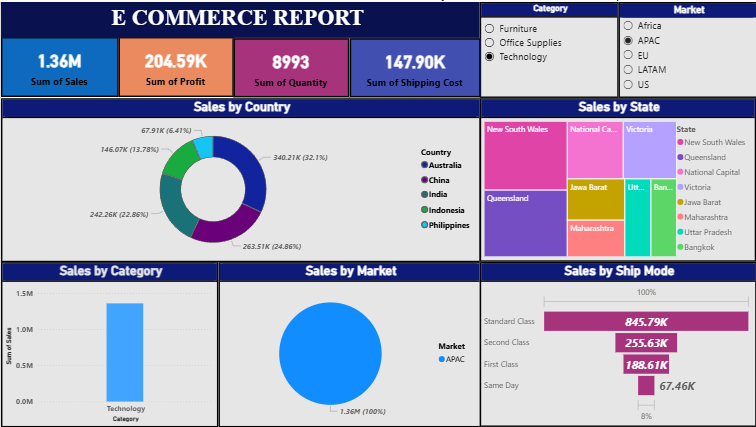

The page's visual inventory and layout, read from the dashboard file:
{"tool":"powerbi","page":{"name":"Page 1","canvas":[1280,720],"ordinal":0},"visuals":[{"type":"columnChart","title":"Sales by Category","fields":{"Category":["Orders.Category"],"Y":["Sum(Orders.Sales)"]},"box":[0,440.5,367.8,279.9],"z":0},{"type":"pieChart","title":"Sales by Market","fields":{"Category":["Orders.Market"],"Y":["Sum(Orders.Sales)"]},"box":[367.8,440.5,444.6,279.9],"z":1000},{"type":"funnel","title":"Sales by Ship Mode","fields":{"Category":["Orders.Ship Mode"],"Y":["Sum(Orders.Sales)"]},"box":[811.6,440.7,468.6,279.1],"z":2000},{"type":"donutChart","title":"Sales by Country","fields":{"Category":["Orders.Country"],"Y":["Sum(Orders.Sales)"]},"box":[0,162.8,811.6,277.9],"z":3000},{"type":"listSlicer","box":[1045.6,0,234.6,163.3],"z":4000},{"type":"listSlicer","fields":{"Values":["Orders.Market"]},"box":[1045.4,0,234.9,162.8],"z":5000},{"type":"listSlicer","fields":{"Values":["Orders.Category"]},"box":[811.6,0,234.9,162.8],"z":6000},{"type":"treemap","title":"Sales by State","fields":{"Values":["Sum(Orders.Sales)"],"Group":["Orders.State"]},"box":[811,163.3,467.9,277.2],"z":7000},{"type":"card","fields":{"Values":["Sum(Orders.Sales)"]},"box":[0,60.1,198.9,101.5],"z":8000},{"type":"card","fields":{"Values":["Sum(Orders.Profit)"]},"box":[198.9,60.1,194.9,101.5],"z":9000},{"type":"card","fields":{"Values":["Sum(Orders.Quantity)"]},"box":[393.8,61.4,196.2,100.1],"z":10000},{"type":"card","fields":{"Values":["Sum(Orders.Shipping Cost)"]},"box":[590.1,61.4,221.6,100.1],"z":11000},{"type":"textbox","box":[0,0,810.6,61],"z":12000}]}

Visuals, with their boxes in screenshot pixels (x1, y1, x2, y2), scaled from the page's 1280x720 canvas onto the 756x427 screenshot:
"Sales by Category" columnChart: x1=0 y1=261 x2=217 y2=426
"Sales by Market" pieChart: x1=217 y1=261 x2=480 y2=426
"Sales by Ship Mode" funnel: x1=479 y1=261 x2=755 y2=426
"Sales by Country" donutChart: x1=0 y1=97 x2=479 y2=261
listSlicer: x1=618 y1=0 x2=755 y2=97
listSlicer - Orders.Market: x1=617 y1=0 x2=755 y2=97
listSlicer - Orders.Category: x1=479 y1=0 x2=618 y2=97
"Sales by State" treemap: x1=479 y1=97 x2=755 y2=261
card - Sum(Orders.Sales): x1=0 y1=36 x2=117 y2=96
card - Sum(Orders.Profit): x1=117 y1=36 x2=233 y2=96
card - Sum(Orders.Quantity): x1=233 y1=36 x2=348 y2=96
card - Sum(Orders.Shipping Cost): x1=349 y1=36 x2=479 y2=96
textbox: x1=0 y1=0 x2=479 y2=36
